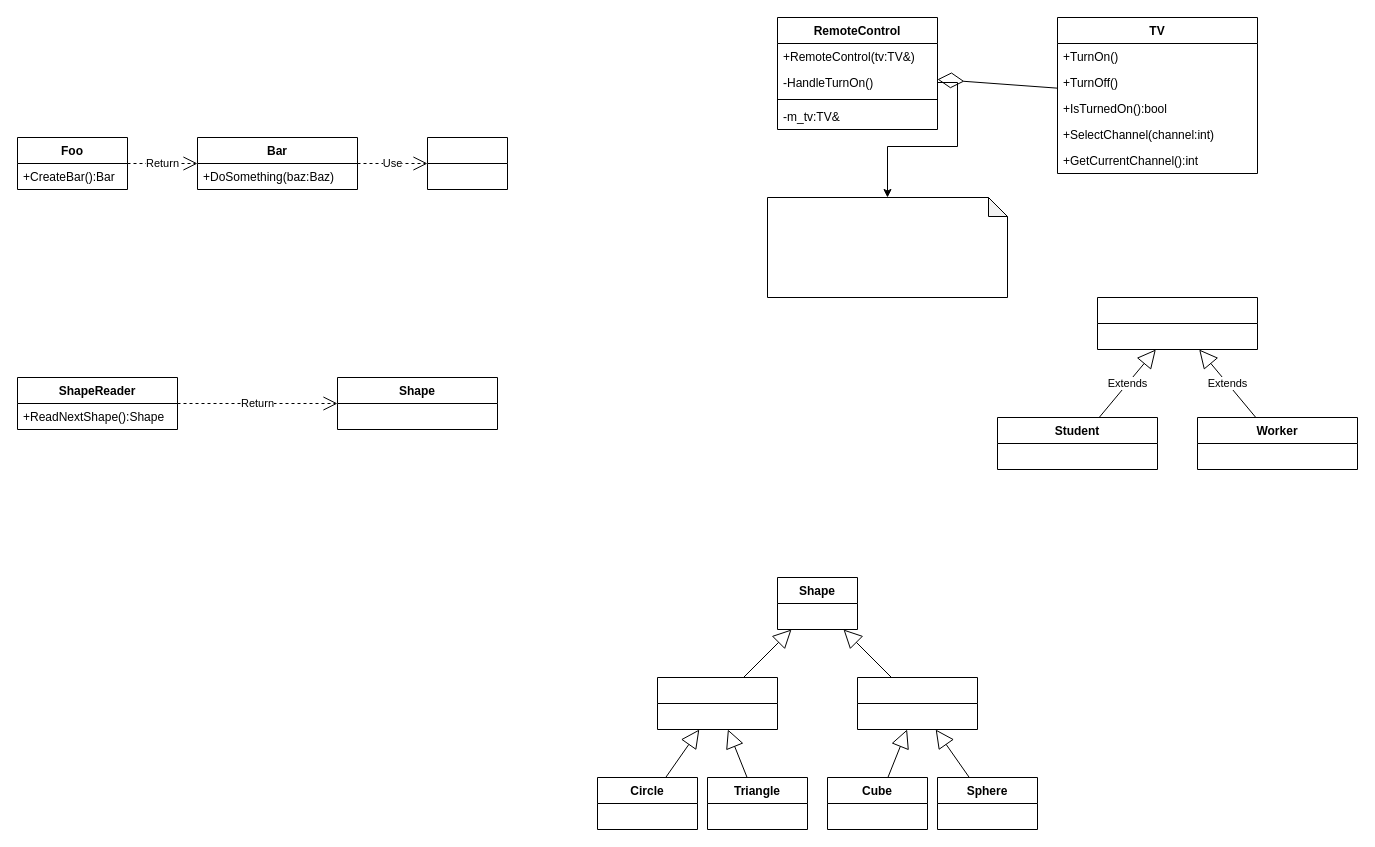
This 1375x847 diagram has some shape labels left out. The centre of each missing label's shape, as x and y in pixels:
"Baz" goes at point (467, 163).
"Person" goes at point (1177, 323).
"Shape2D" goes at point (717, 703).
"Shape3D" goes at point (917, 703).
"void RemoteControl::HandleTurnOn() { m_tv.TurnOn() }" goes at point (887, 247).
